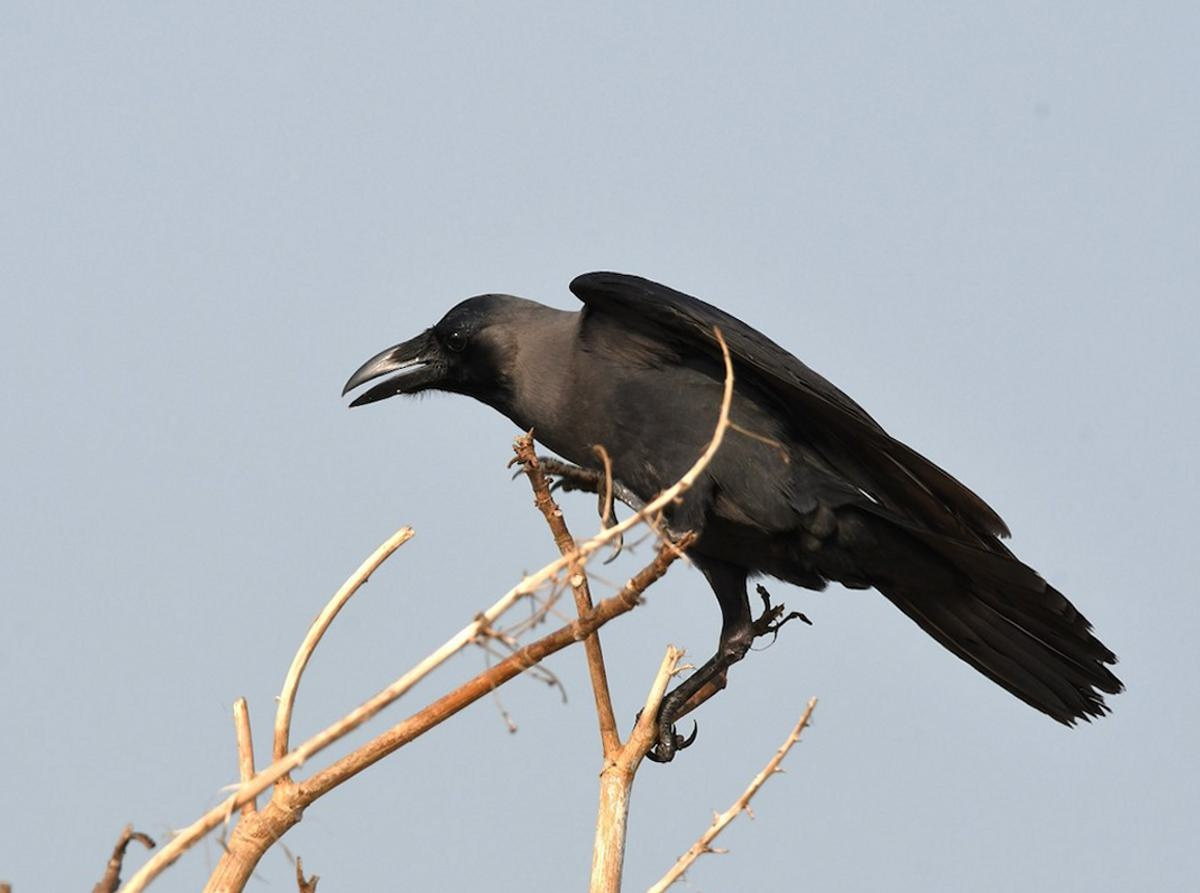crow: (332, 261, 1164, 744)
